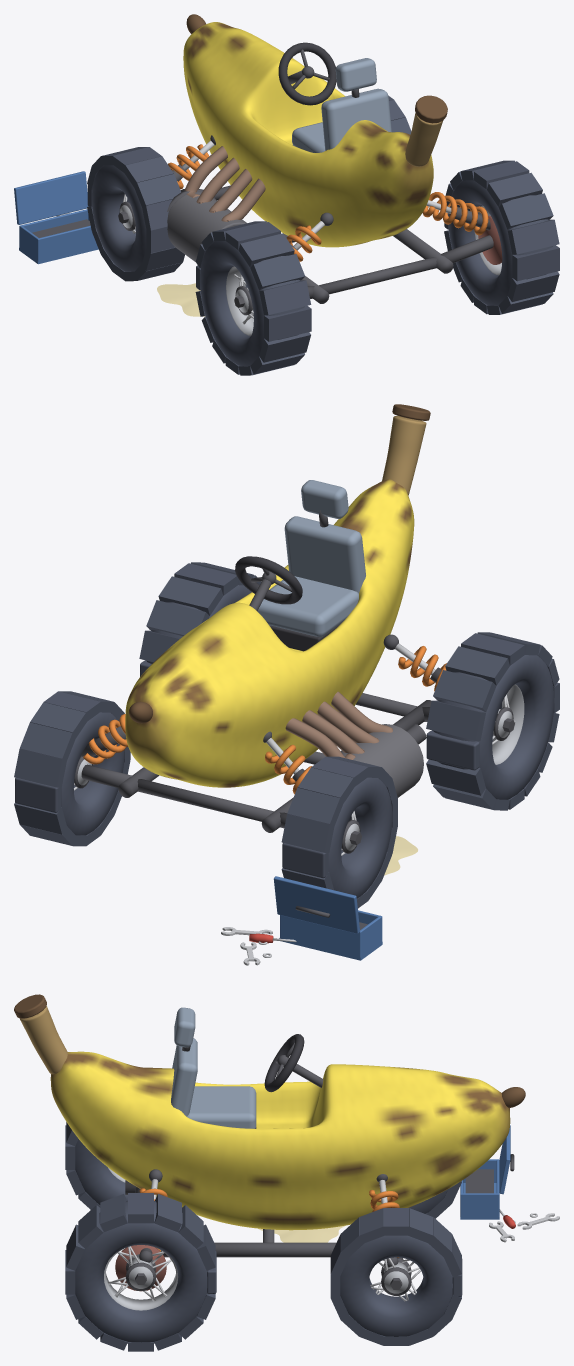
The model's file is rig_kart.glb.
The picture shows the model from 3 angles, top to bottom: view 1: azimuth 30°, elevation 25°; view 2: azimuth 150°, elevation 25°; view 3: azimuth 270°, elevation 25°; orthographic projection. The views are drawn at different scales.
Visible parts, largest first — view 1: Banana_Shell, Tire_RL, Tire_RR, Tire_FL, Toolbox_Lid, Muffler_Body, Seat_Back, Steering_Wheel, Cross_Rear, Shock_Coil_RR, Toolbox_Wall_F, Tread_RL_07 (+36 smaller); view 2: Banana_Shell, Tire_RL, Tire_FL, Seat_Back, Tire_FR, Seat_Cushion, Toolbox_Lid, Muffler_Body, Stem_Stalk, Toolbox_Wall_B, Cross_Front, Tread_RL_01 (+35 smaller); view 3: Banana_Shell, Tire_RR, Tire_FR, Seat_Cushion, Rail_R, Tire_RL, Stem_Stalk, Seat_Back, Steering_Wheel, Toolbox_Wall_R, Rim_RR, Goo_Puddle (+19 smaller).
Part boxes in pixels (x1,y1,x2,y2): Banana_Shell: [183, 22, 433, 247]; Tire_RL: [200, 241, 304, 366]; Tire_RR: [448, 180, 552, 305]; Tire_FL: [92, 165, 146, 271]; Toolbox_Lid: [14, 171, 88, 224]; Muffler_Body: [167, 192, 246, 261]; Seat_Back: [321, 88, 391, 150]; Steering_Wheel: [278, 42, 336, 105]; Cross_Rear: [319, 257, 436, 294]; Shock_Coil_RR: [422, 192, 488, 235]; Toolbox_Wall_F: [37, 225, 97, 261]; Tread_RL_07: [259, 280, 311, 315]; Banana_Shell: [125, 479, 414, 787]; Tire_RL: [432, 655, 554, 799]; Tire_FL: [328, 777, 392, 898]; Seat_Back: [284, 516, 365, 593]; Tire_FR: [61, 712, 124, 835]; Seat_Cushion: [257, 576, 358, 636]; Toolbox_Lid: [273, 876, 359, 933]; Muffler_Body: [340, 724, 423, 797]; Stem_Stalk: [382, 416, 426, 495]; Toolbox_Wall_B: [280, 915, 361, 958]; Cross_Front: [137, 779, 273, 821]; Tread_RL_01: [426, 700, 485, 740]; Banana_Shell: [50, 1051, 510, 1230]; Tire_RR: [75, 1200, 209, 1343]; Tire_FR: [340, 1235, 452, 1336]; Seat_Cushion: [187, 1086, 256, 1128]; Rail_R: [161, 1242, 336, 1257]; Tire_RL: [75, 1139, 127, 1204]; Stem_Stalk: [19, 1006, 67, 1074]; Seat_Back: [171, 1038, 197, 1116]; Steering_Wheel: [264, 1034, 304, 1092]; Toolbox_Wall_R: [461, 1193, 499, 1218]; Rim_RR: [104, 1246, 177, 1310]; Goo_Puddle: [258, 1225, 345, 1242].
Bounding box in the file's own units: 1.58 × 1.24 × 2.19.
